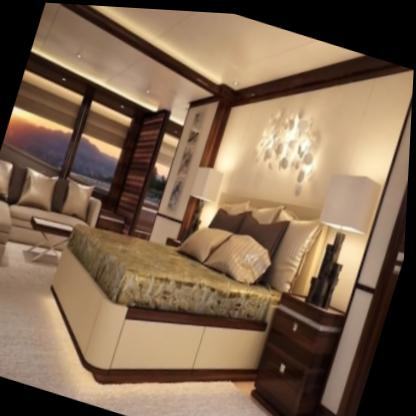Bed: (38, 165, 313, 416)
Lamp: (296, 156, 392, 308), (177, 158, 227, 244)
Nightstand: (241, 277, 353, 416)
Sofa: (0, 151, 86, 273)
